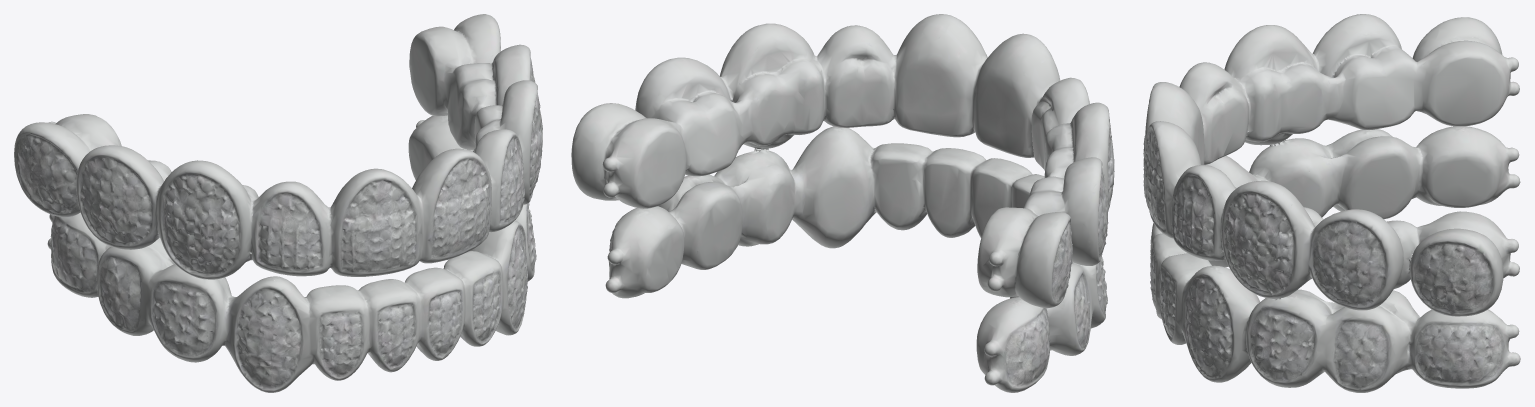
File: grill.glb
3 renders of one model, left to right at view 1: azimuth 30°, elevation 25°; view 2: azimuth 150°, elevation 25°; view 3: azimuth 270°, elevation 25°, orthographic. The views are drawn at different scales.
Parts seen in each view (by area): view 1: Mesh_0; view 2: Mesh_0; view 3: Mesh_0.
Boxes of the visible parts, left/top/right/bottom form: Mesh_0: left=14, top=14, right=542, bottom=392; Mesh_0: left=571, top=14, right=1114, bottom=392; Mesh_0: left=1143, top=14, right=1520, bottom=392.
Bounding box in the file's own units: 1.9 × 0.8565 × 1.34.
Materials: 1 (1 with a texture image).
